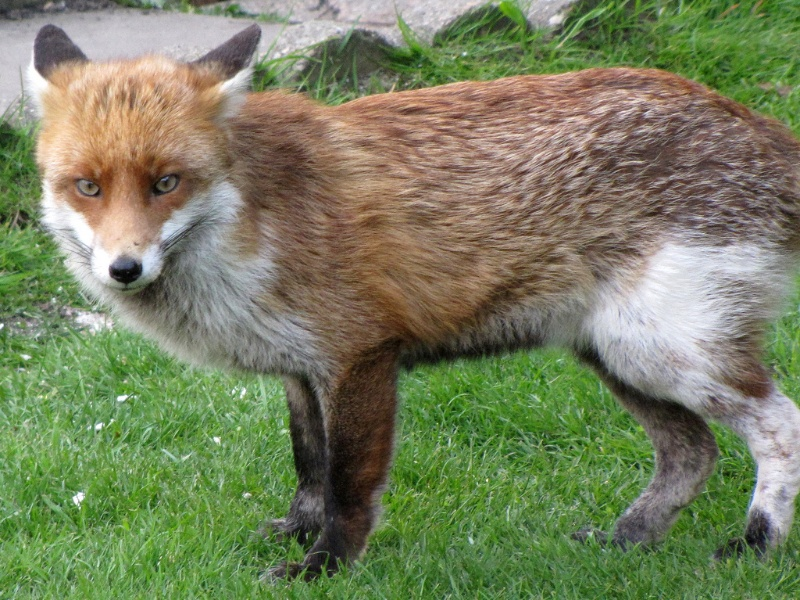fox: (27, 26, 800, 564)
